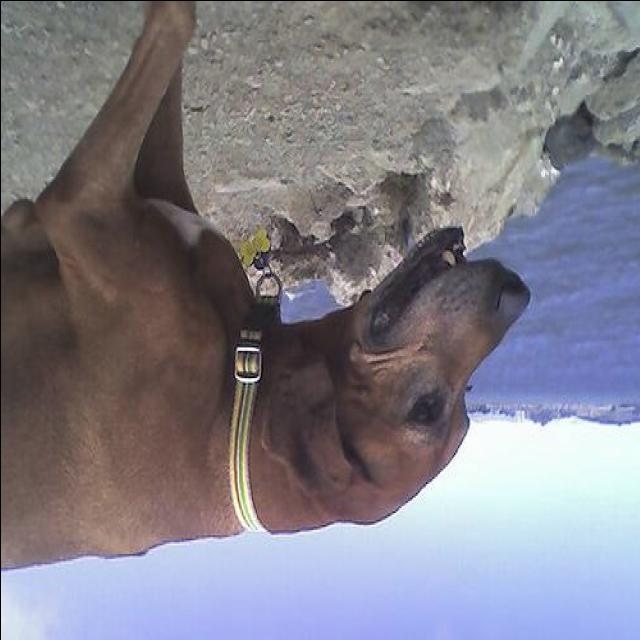rhodesian_ridgeback: (1, 1, 534, 572)
